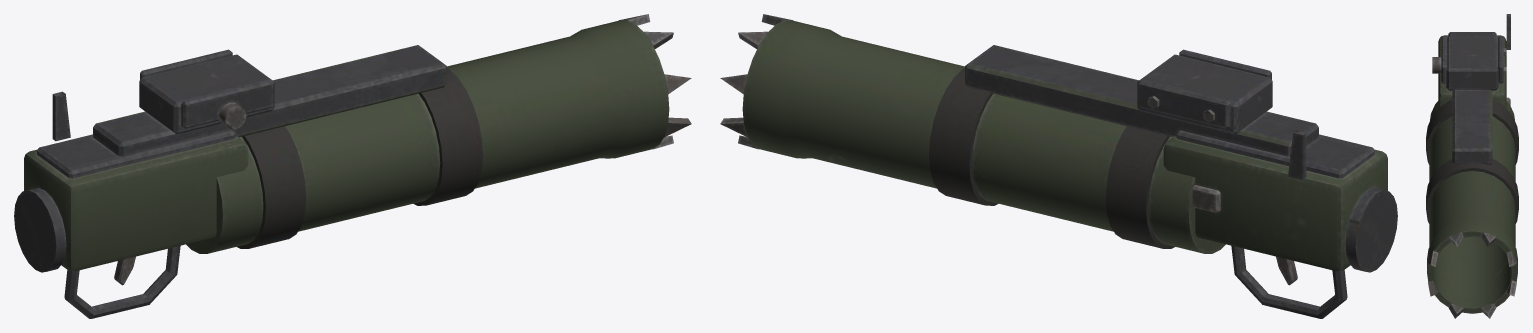
Rendered from second_mouth.glb.
The picture shows the model from 3 angles, left to right: view 1: azimuth 30°, elevation 25°; view 2: azimuth 150°, elevation 25°; view 3: azimuth 270°, elevation 25°; orthographic projection. The views are drawn at different scales.
Visible parts, largest first — view 1: Tube, second_mouth; view 2: Tube, second_mouth; view 3: Tube, second_mouth.
Part boxes in pixels (x1,y1,x2,y2): Tube: (186,14,691,253); second_mouth: (14,45,446,318); Tube: (720,14,1225,253); second_mouth: (965,45,1397,318); Tube: (1426,100,1518,318); second_mouth: (1432,14,1510,164).
Bounding box in the file's own units: 0.248 × 0.0811 × 0.0464.
1 material, 1 textured.
